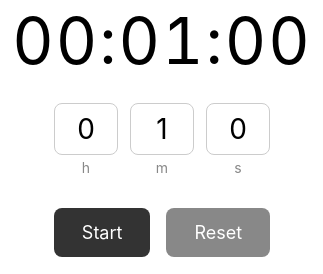
Test: TimerScreen › duration inputs › inputs are hidden once the timer has started
The image size is (323, 274).
Click the element with test id "start-button". click: click(102, 232)
box: [54,208,150,256]
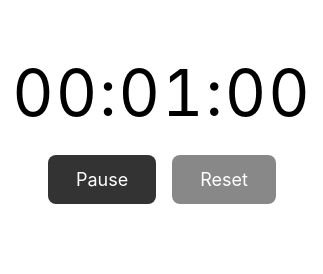
Check: the field with test id "input-hours" is gone
Check: the field with test id "input-minutes" is gone
Check: the field with test id "input-seconds" is gone
